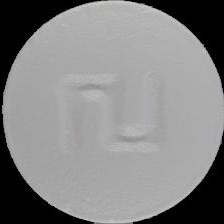54868-6340: (0, 0, 224, 224)
